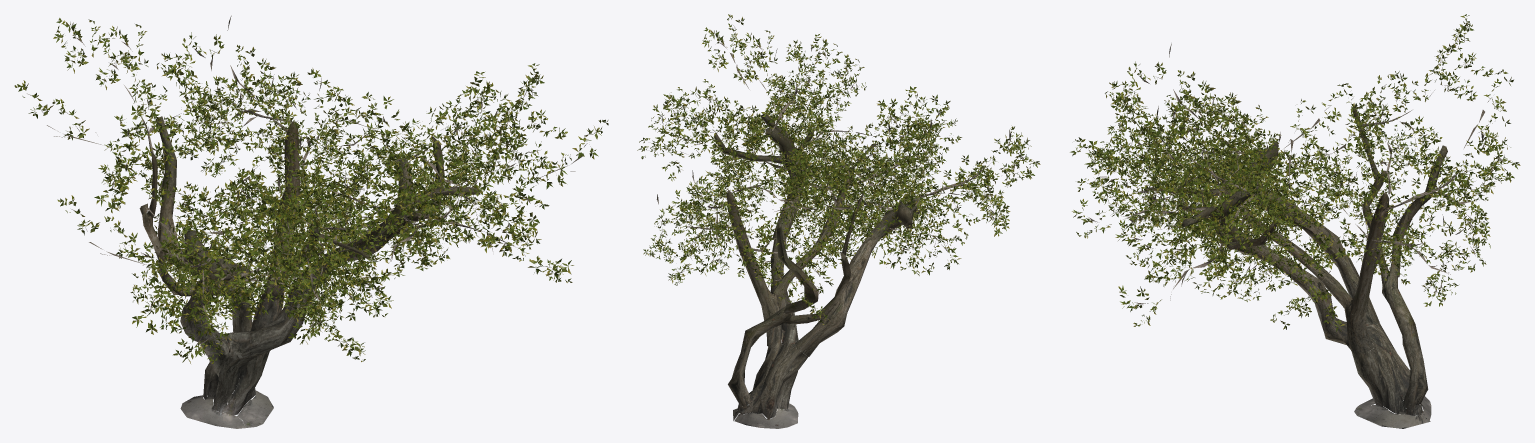
File: island_tree_02.glb
The picture shows the model from 3 angles, left to right: view 1: azimuth 30°, elevation 25°; view 2: azimuth 150°, elevation 25°; view 3: azimuth 270°, elevation 25°; orthographic projection. The views are drawn at different scales.
Parts seen in each view (by area): view 1: island_tree_02_LOD0; view 2: island_tree_02_LOD0; view 3: island_tree_02_LOD0.
Boxes of the visible parts, x1,y1,x2,y2 form: island_tree_02_LOD0: (14, 15, 608, 428); island_tree_02_LOD0: (637, 14, 1040, 428); island_tree_02_LOD0: (1070, 14, 1520, 428).
Bounding box in the file's own units: 3.86 × 3.4 × 4.07.
Materials: 3 (3 with a texture image).
